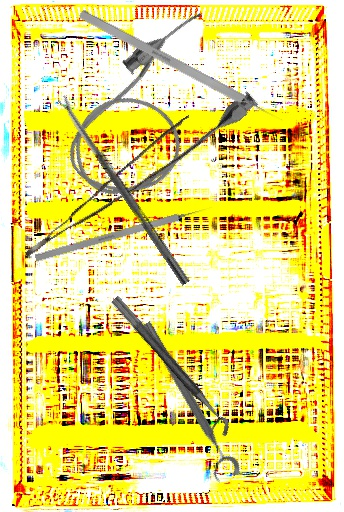Cannula: (41, 3, 269, 222)
Fixation Ring: (99, 295, 235, 445), (129, 318, 243, 486)
Hook Surgical: (78, 8, 285, 126), (34, 203, 214, 263)
Surgical Spoon: (57, 94, 191, 286)
Tissue Forceps: (6, 115, 210, 257)
